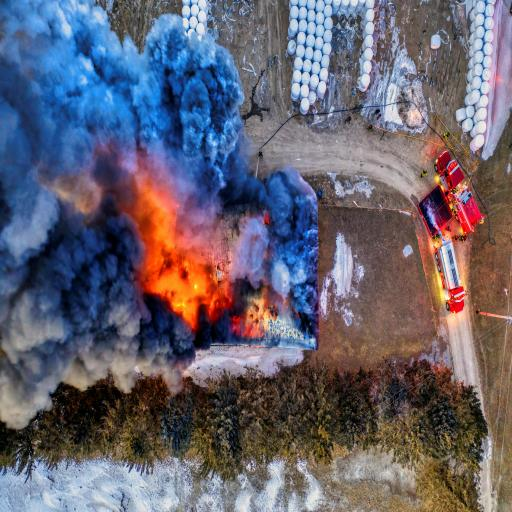smoke: (0, 3, 322, 401)
